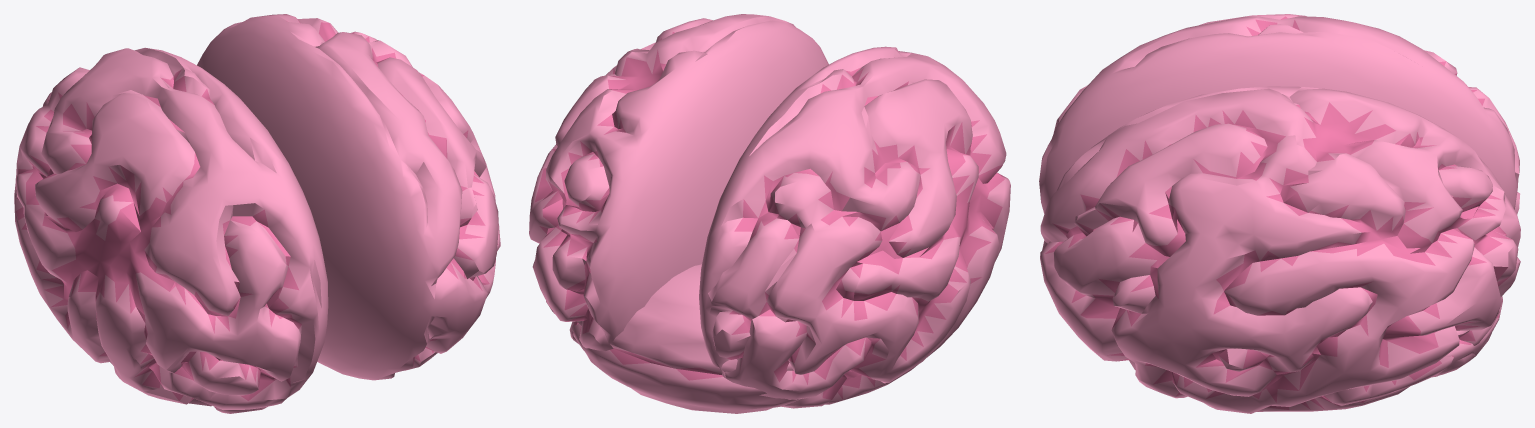
File: Brain.fbx
3 views of the same model, side by side, from view 1: azimuth 30°, elevation 25°; view 2: azimuth 150°, elevation 25°; view 3: azimuth 270°, elevation 25° (orthographic).
Parts seen in each view (by area): view 1: Brain; view 2: Brain; view 3: Brain.
Boxes of the visible parts, x1=… form: Brain: x1=14, y1=14, x2=500, y2=413; Brain: x1=529, y1=14, x2=1010, y2=413; Brain: x1=1039, y1=14, x2=1520, y2=413.
Bounding box in the file's own units: 172 × 132 × 183.
Materials: 1 (1 with a texture image).
